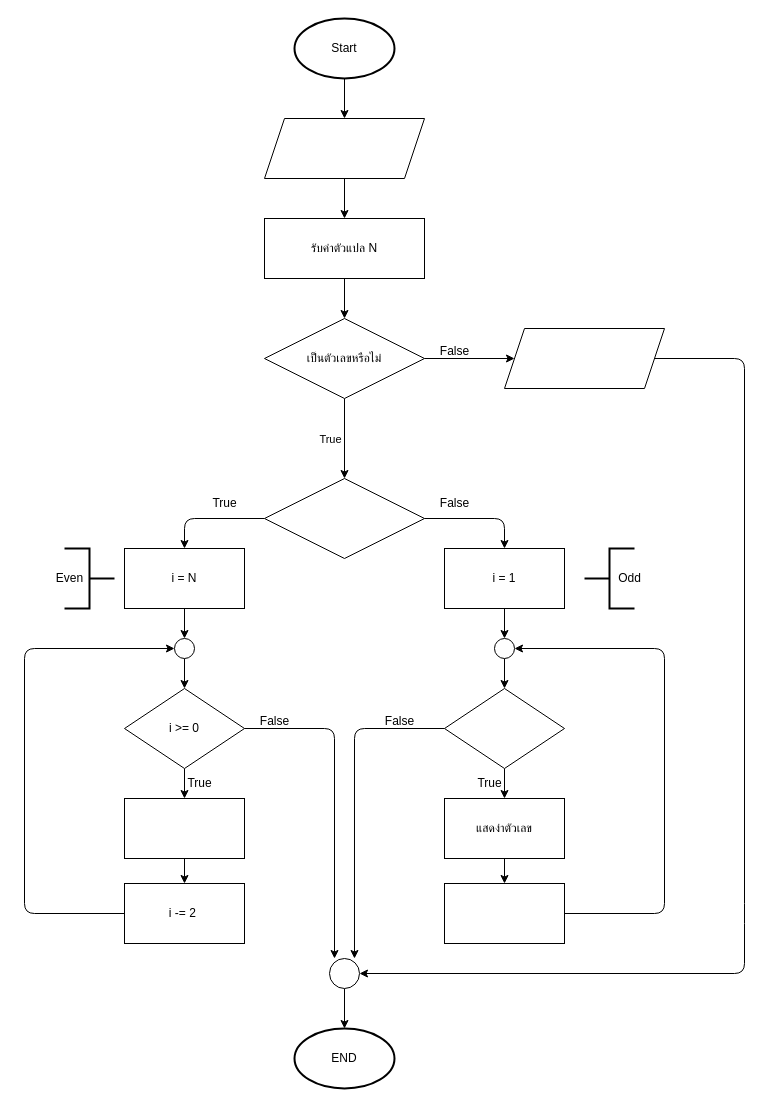
This 770x1106 diagram has some shape labels left out. Each missing label, with the centre of its shape:
"i += 2" goes at point (504, 913).
"i <= N" goes at point (504, 728).
"กรุฌากรอกตัวเลขจำนวนเต็ม" goes at point (344, 148).
"เป็นเลขคู่หรือไม่ โดยใช้ N % 2 = 0" goes at point (344, 518).
"แสดงค่าตัวเลข" goes at point (184, 828).
"ไม่ใช่ตัวเลข" goes at point (584, 358).
